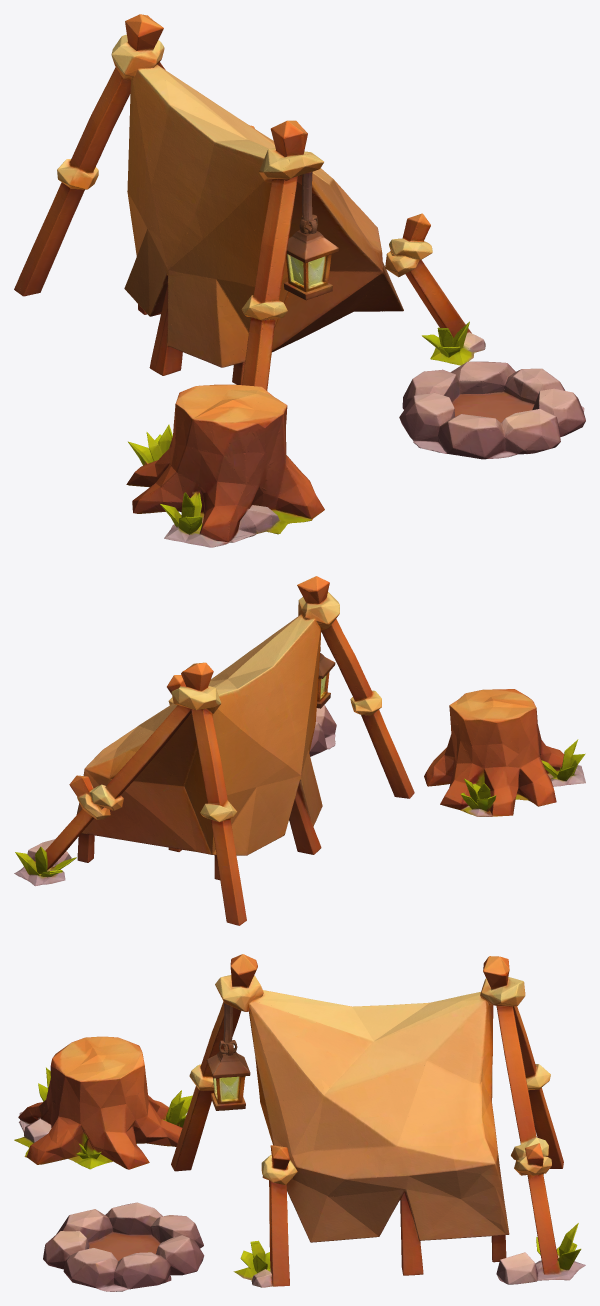
File: KeepSakeTent.glb
The picture shows the model from 3 angles, top to bottom: view 1: azimuth 30°, elevation 25°; view 2: azimuth 150°, elevation 25°; view 3: azimuth 270°, elevation 25°; orthographic projection. The views are drawn at different scales.
Parts seen in each view (by area): view 1: tripo_node_a0d29cb9-4797-498e-bdb7-ca4ee76a93d6; view 2: tripo_node_a0d29cb9-4797-498e-bdb7-ca4ee76a93d6; view 3: tripo_node_a0d29cb9-4797-498e-bdb7-ca4ee76a93d6.
Part boxes in pixels (box(x1,y1,x2,y2)): tripo_node_a0d29cb9-4797-498e-bdb7-ca4ee76a93d6: box(14, 14, 585, 547); tripo_node_a0d29cb9-4797-498e-bdb7-ca4ee76a93d6: box(14, 576, 585, 925); tripo_node_a0d29cb9-4797-498e-bdb7-ca4ee76a93d6: box(14, 954, 585, 1291).
Bounding box in the file's own units: 0.7701 × 0.4652 × 0.9797.
1 material, 1 textured.
